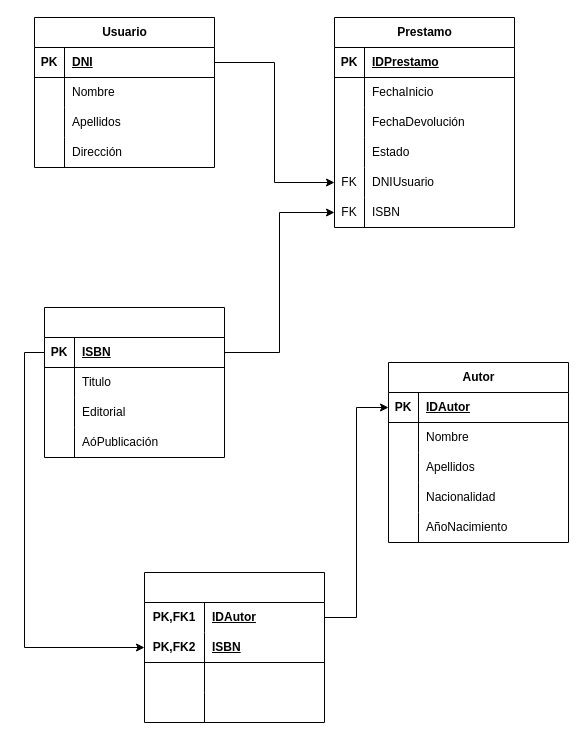
This 586x740 diagram has some shape labels left out. The box of each missing label's shape, as (x1, y1, x2, y2) in pixels:
Escribir: (144, 572, 324, 722)
Libro: (44, 306, 224, 458)
